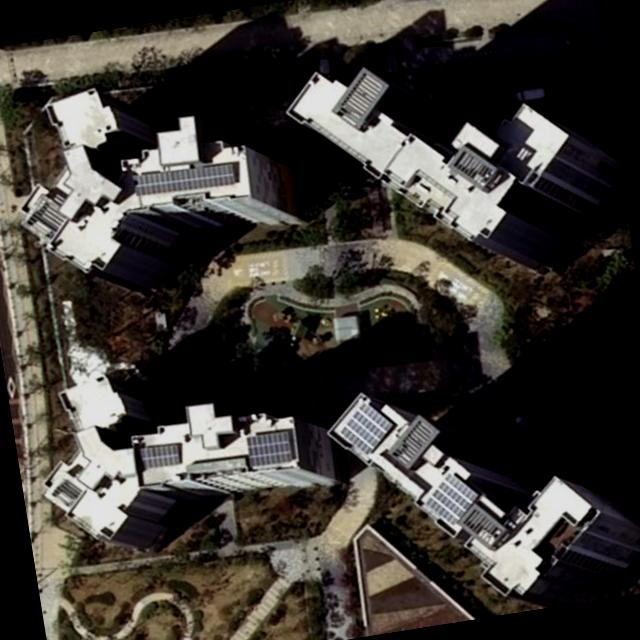solar: (129, 158, 240, 201), (332, 398, 398, 461), (419, 469, 484, 532), (243, 428, 297, 471), (136, 439, 184, 471)
